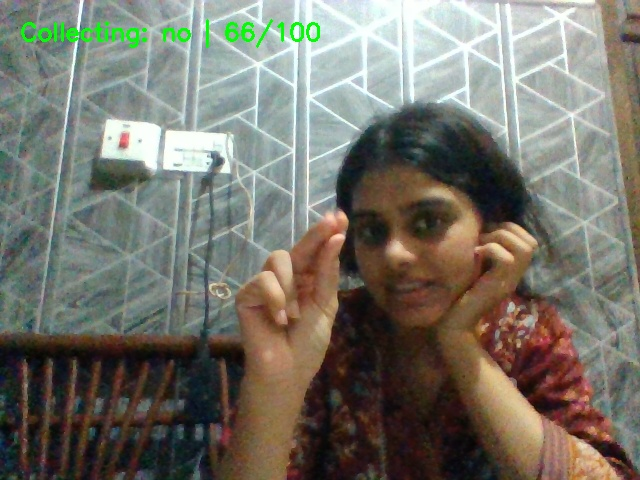no: (221, 199, 379, 393)
